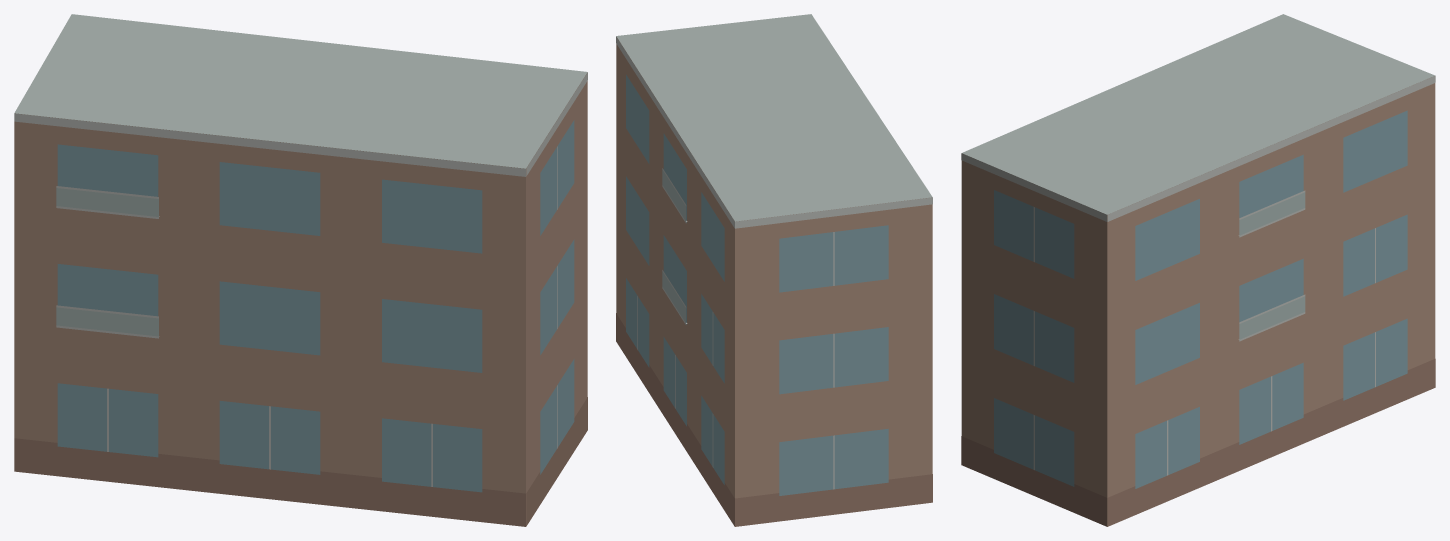
The model's file is survey-upis-32845285.glb.
3 views of the same model, side by side, from view 1: azimuth 30°, elevation 25°; view 2: azimuth 150°, elevation 25°; view 3: azimuth 270°, elevation 25° (orthographic). The views are drawn at different scales.
Visible parts, largest first — view 1: survey-upis-32845285.tmp; view 2: survey-upis-32845285.tmp; view 3: survey-upis-32845285.tmp.
Part boxes in pixels (x1=…): survey-upis-32845285.tmp: x1=14, y1=14, x2=587, y2=526; survey-upis-32845285.tmp: x1=616, y1=14, x2=932, y2=526; survey-upis-32845285.tmp: x1=961, y1=14, x2=1435, y2=526.
Bounding box in the file's own units: 14.5 × 10.5 × 14.46.
